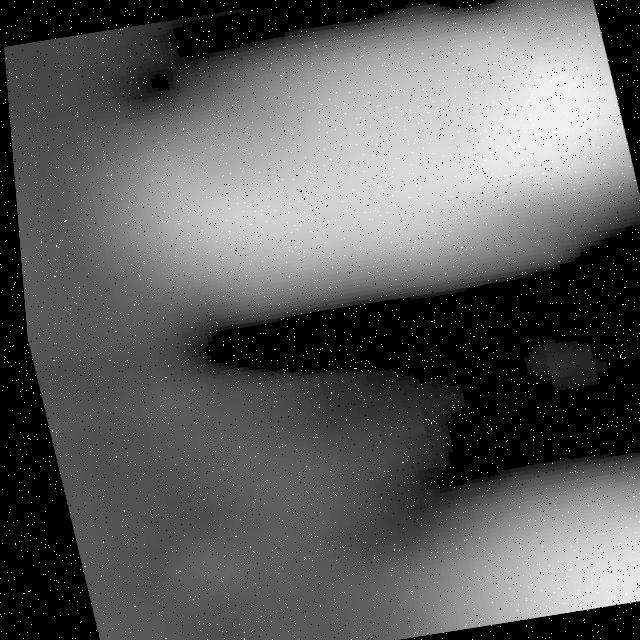person: (45, 1, 640, 344), (331, 465, 640, 640)
